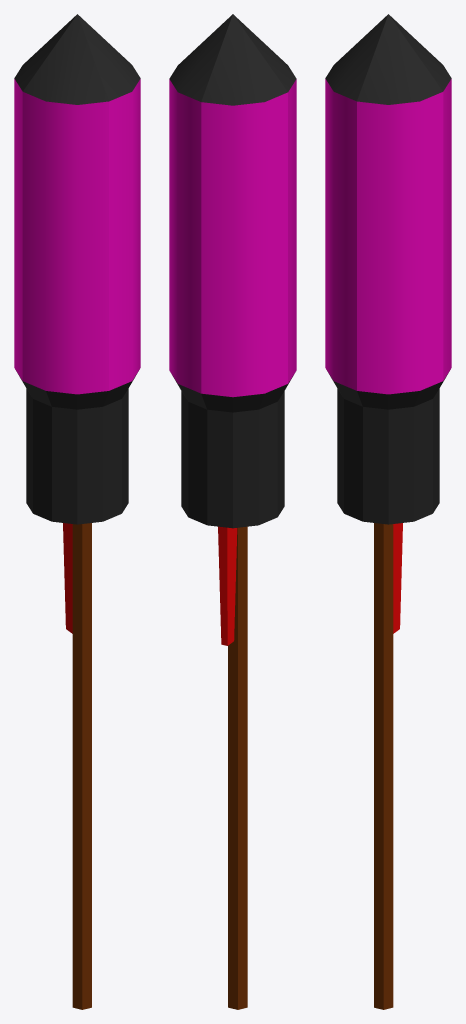
File: item_firework2.fbx
3 views of the same model, side by side, from view 1: azimuth 30°, elevation 25°; view 2: azimuth 150°, elevation 25°; view 3: azimuth 330°, elevation 25° (orthographic).
Parts seen in each view (by area): view 1: firework; view 2: firework; view 3: firework.
Part boxes in pixels (box(x1,y1,x2,y2)): firework: box(14, 14, 140, 1009); firework: box(169, 14, 296, 1009); firework: box(325, 14, 451, 1009).
Size of the model in its own units: 18.22 by 157 by 18.22.
